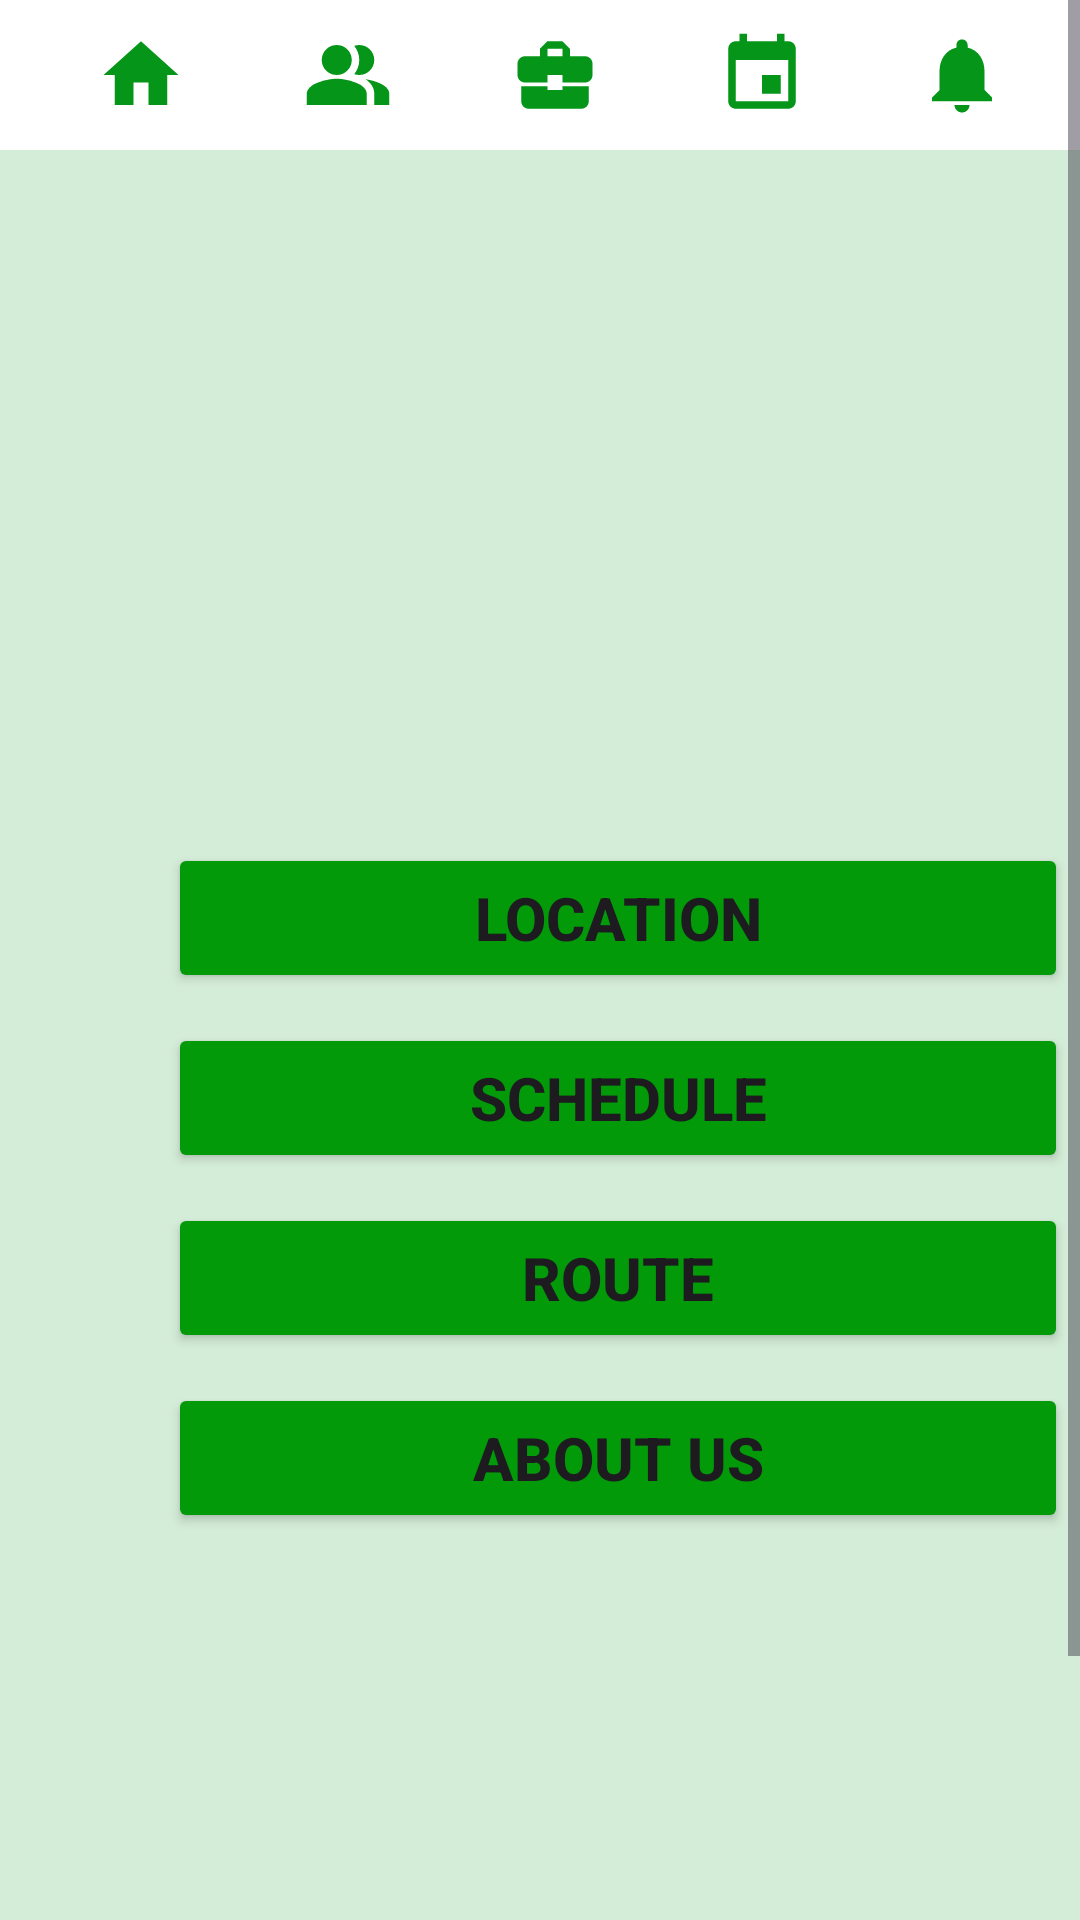

Icon click points for this 1080px×1920px phone screenshot, format point (x, y):
business center: point (555, 75)
event: point (762, 71)
home: point (141, 73)
notifications: point (962, 76)
people: point (348, 75)
